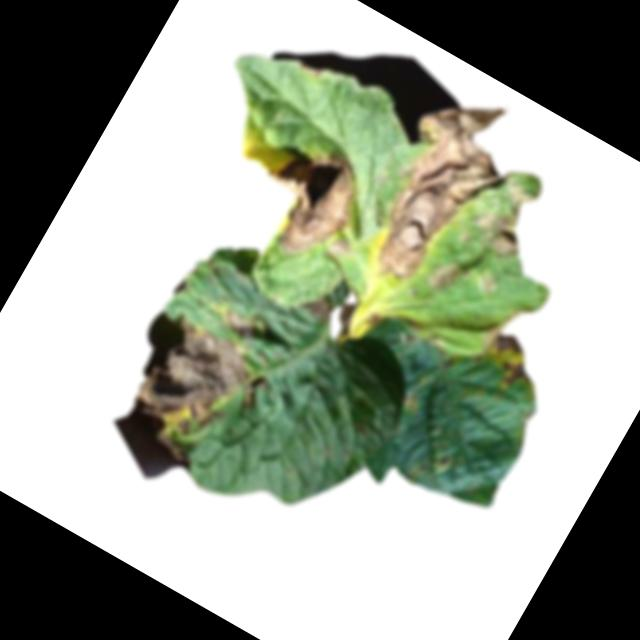Early_blight: (340, 72, 536, 305), (116, 312, 264, 475), (239, 128, 375, 271), (462, 172, 546, 265), (476, 329, 546, 395), (423, 254, 464, 299), (215, 305, 256, 340), (327, 299, 361, 340), (300, 290, 337, 326), (324, 235, 353, 262), (474, 274, 497, 297)
